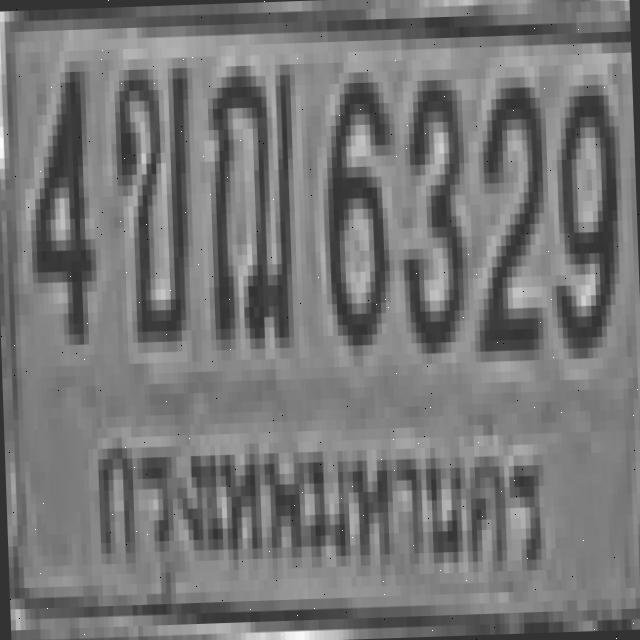11KhorKhai: (108, 58, 191, 332)
2: (468, 71, 546, 346)
21ChorChoe: (200, 53, 298, 340)
3: (392, 69, 465, 344)
4: (20, 61, 93, 336)
6: (318, 66, 392, 340)
9: (544, 74, 617, 349)
